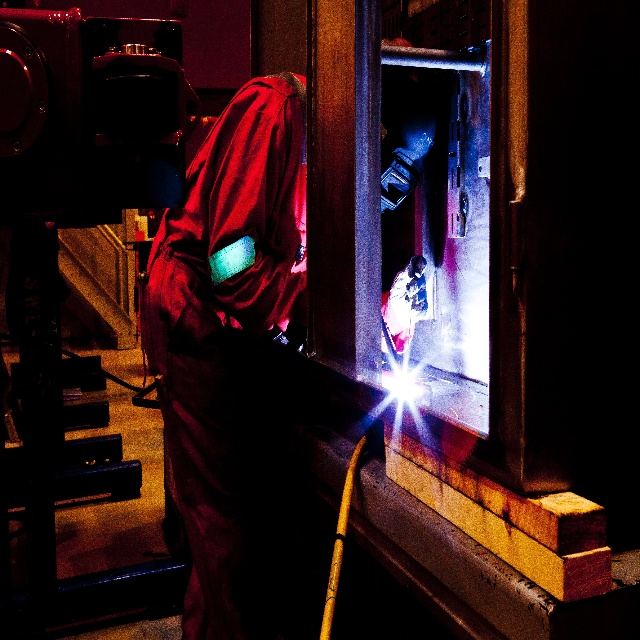Guantes: (388, 254, 428, 334)
